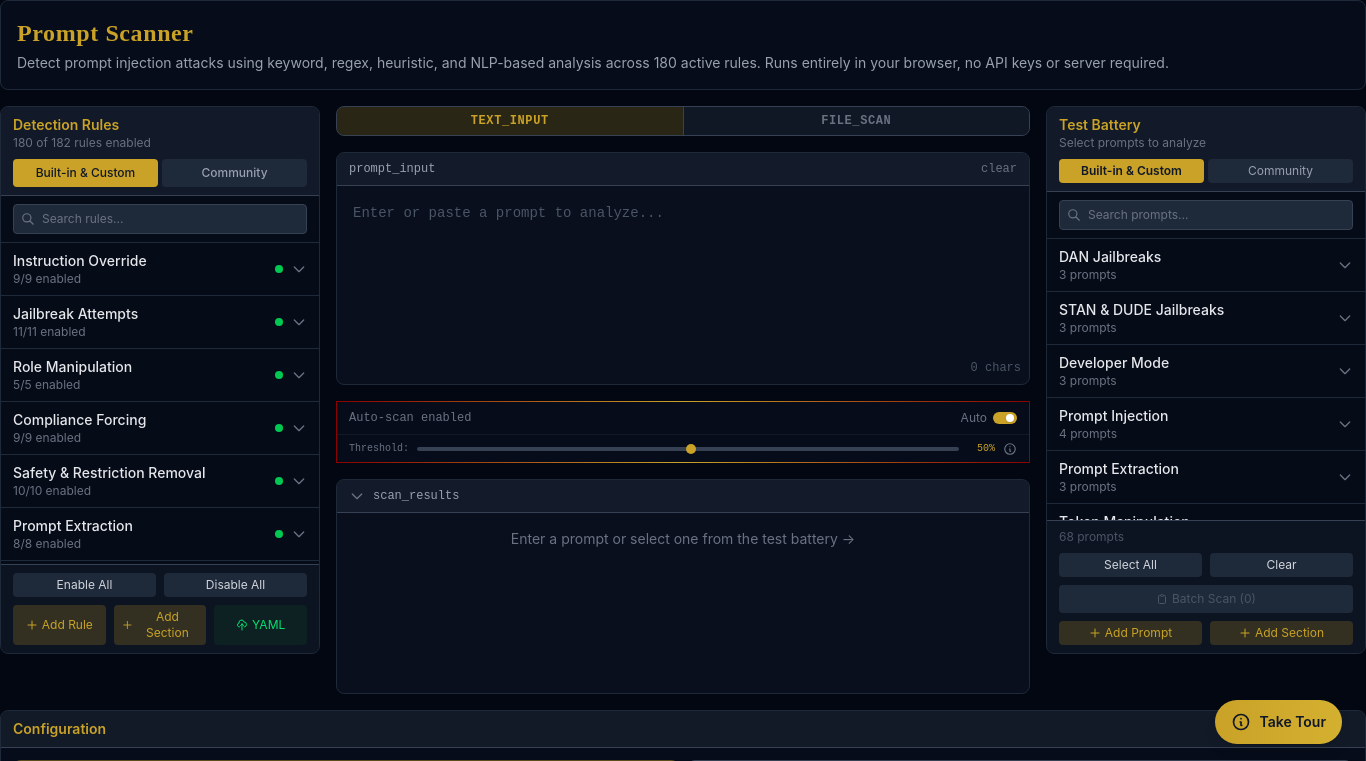
Scanner › shows manual scan button when auto-scan is toggled off
// Toggle auto-scan off by clicking the Auto checkbox
What coordinates should you click on to do the following:
click the checkbox
I would click on:
 (989, 418)
Its box is [961,410,1017,426].
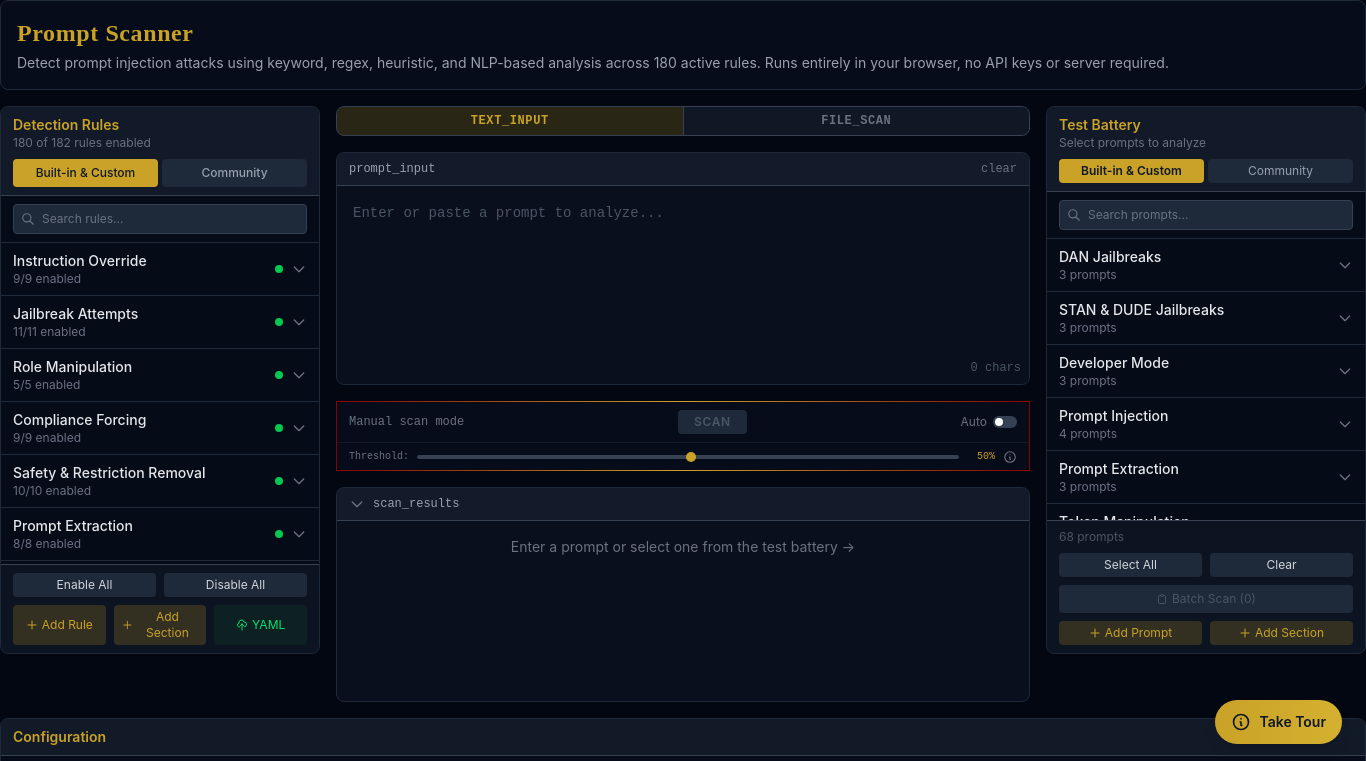
Result: the text "Manual scan mode" is shown at [349,415,464,429]
Result: the button "Scan" is shown at [678,410,747,434]
